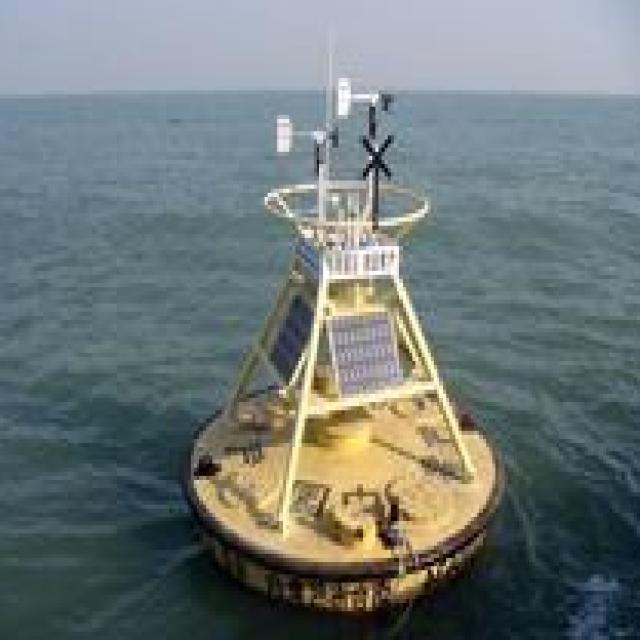buoy: (179, 60, 498, 609)
